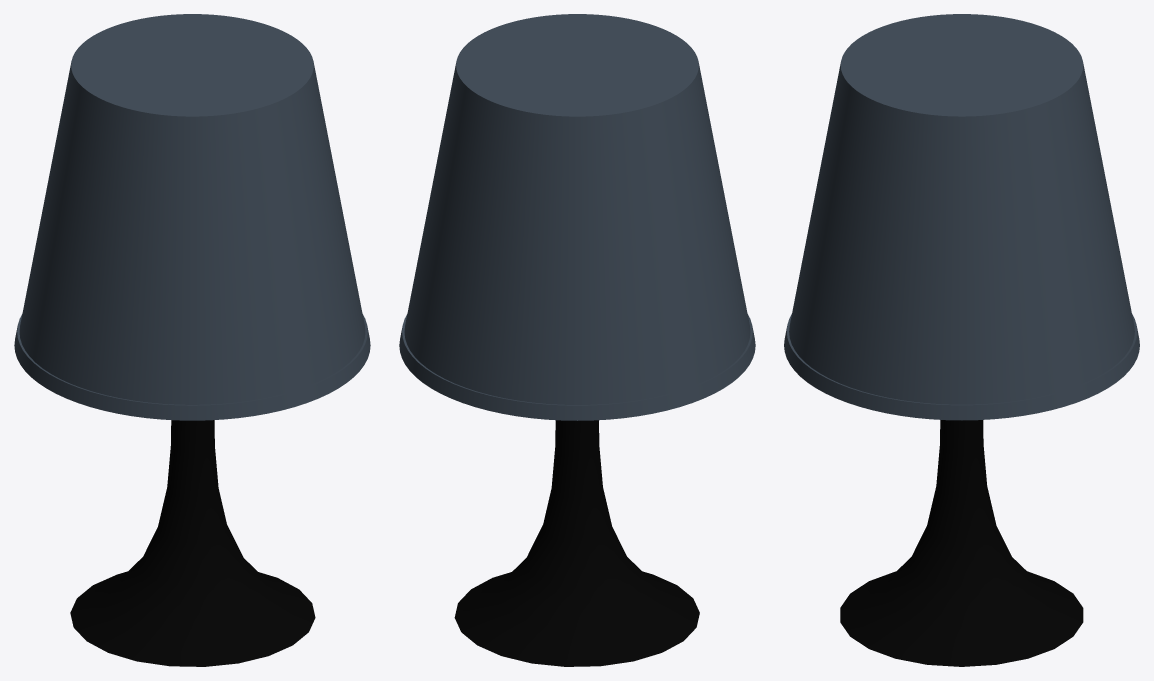
File: IKEA-Lampan_Table_Lamp-3D.DAE
The picture shows the model from 3 angles, left to right: view 1: azimuth 30°, elevation 25°; view 2: azimuth 150°, elevation 25°; view 3: azimuth 270°, elevation 25°; orthographic projection.
Parts seen in each view (by area): view 1: Cylinder01; view 2: Cylinder01; view 3: Cylinder01.
Boxes of the visible parts, x1,y1,x2,y2 form: Cylinder01: (14,14,370,666); Cylinder01: (399,14,755,666); Cylinder01: (784,14,1139,666).
Size of the model in its own units: 294 by 500 by 294.
